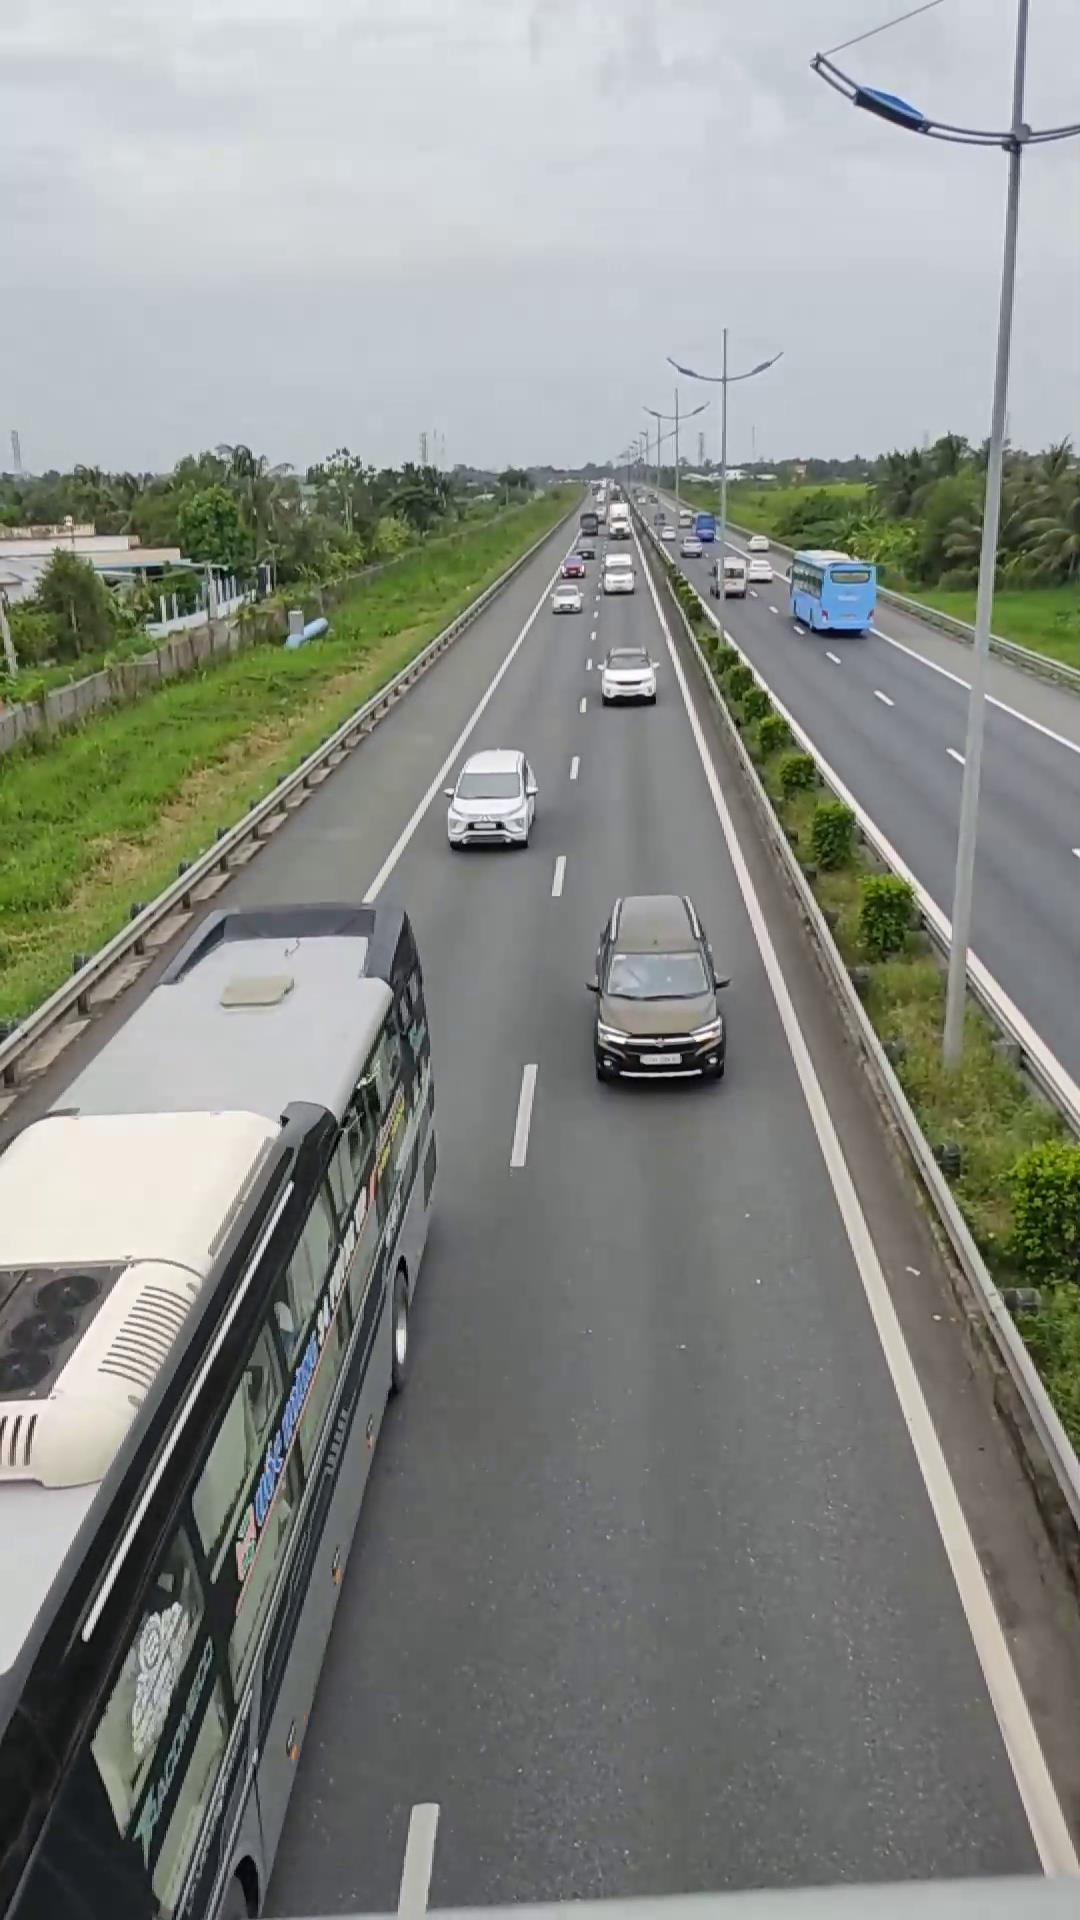bus: (0, 897, 442, 1916)
car: (585, 890, 731, 1083), (442, 746, 539, 849)
